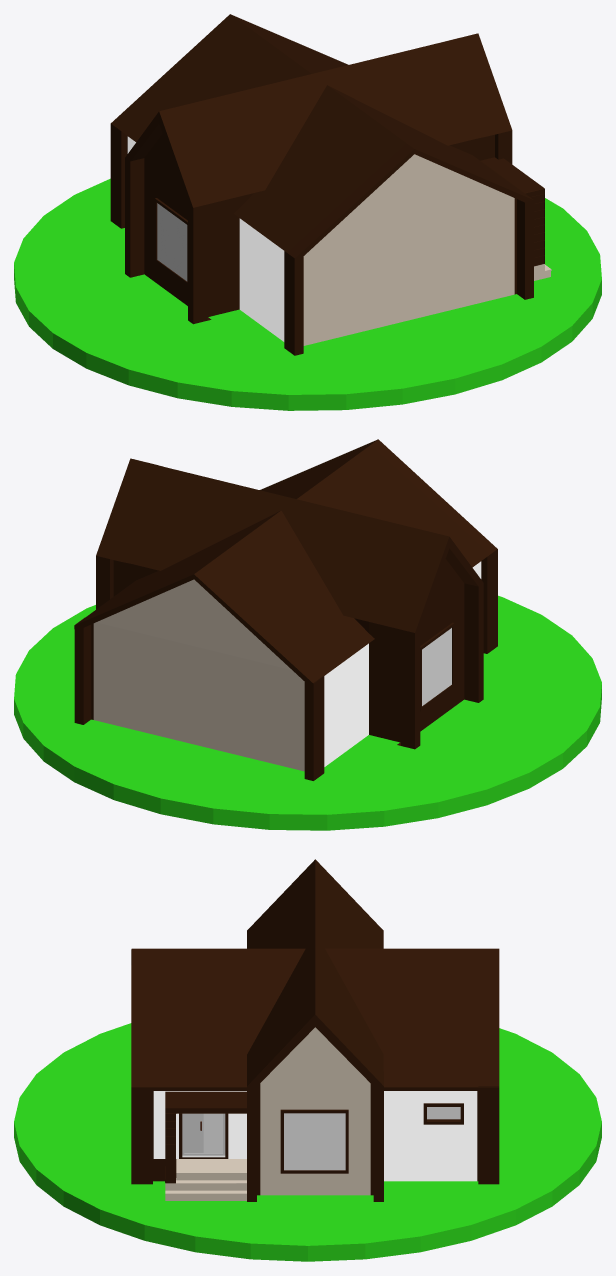
File: house 2.gltf
The picture shows the model from 3 angles, top to bottom: view 1: azimuth 30°, elevation 25°; view 2: azimuth 150°, elevation 25°; view 3: azimuth 270°, elevation 25°; orthographic projection.
Visible parts, largest first — view 1: Plane, Cylinder.001, Plane.004; view 2: Plane, Cylinder.001, Plane.004; view 3: Plane, Cylinder.001, Plane.001, Plane.003, Plane.002.
Boxes of the visible parts, x1,y1,x2,y2 form: Plane: [110, 14, 551, 355]; Cylinder.001: [14, 178, 601, 410]; Plane.004: [154, 198, 187, 285]; Plane: [74, 439, 497, 780]; Cylinder.001: [14, 595, 601, 830]; Plane.004: [420, 622, 454, 710]; Plane: [131, 859, 499, 1201]; Cylinder.001: [14, 1023, 601, 1261]; Plane.001: [280, 1109, 348, 1173]; Plane.003: [179, 1113, 228, 1158]; Plane.002: [423, 1103, 463, 1124].
Bounding box in the file's own units: 43.88 × 17.11 × 43.88.
